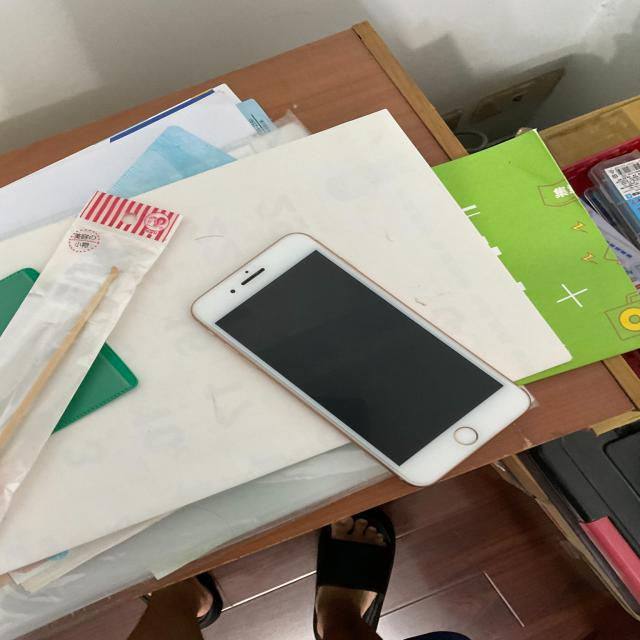Smartphone: (177, 216, 557, 504)
